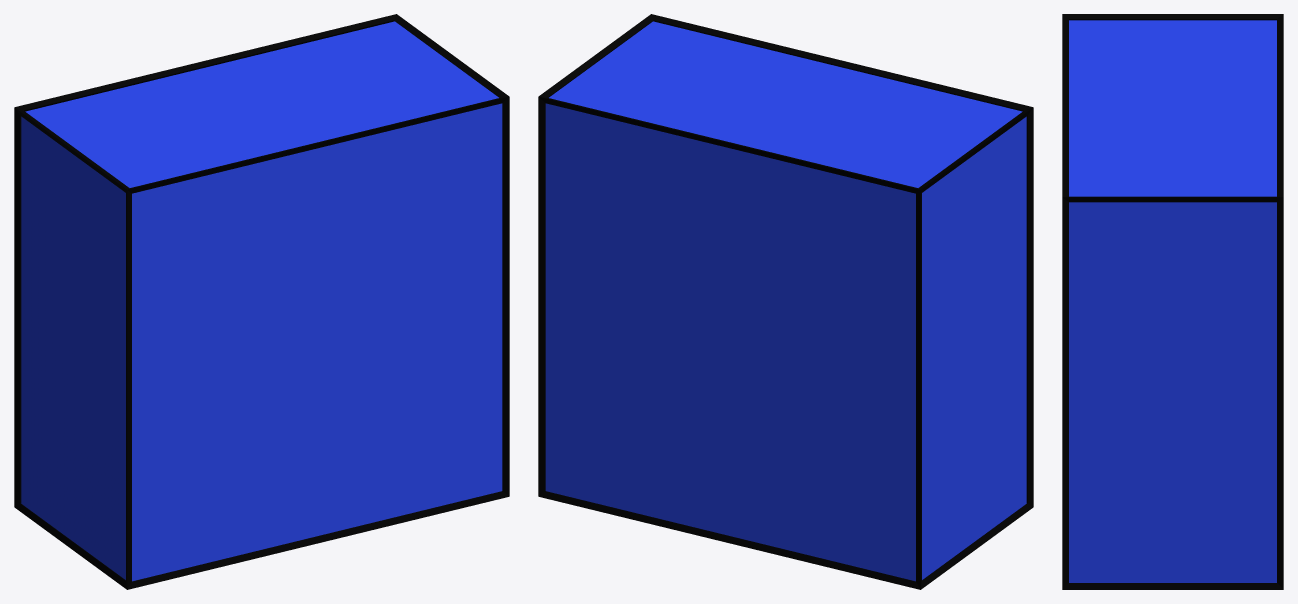
File: cuboid1_blue.obj
3 renders of one model, left to right at view 1: azimuth 30°, elevation 25°; view 2: azimuth 150°, elevation 25°; view 3: azimuth 270°, elevation 25°, orthographic.
Visible parts, largest first — view 1: cuboid1, cuboid.001; view 2: cuboid1, cuboid.001; view 3: cuboid1, cuboid.001.
Boxes of the visible parts, x1,y1,x2,y2 form: cuboid1: [21, 21, 502, 581]; cuboid.001: [14, 14, 509, 589]; cuboid1: [545, 21, 1026, 581]; cuboid.001: [538, 14, 1033, 589]; cuboid1: [1069, 20, 1276, 582]; cuboid.001: [1062, 14, 1283, 589].
Size of the model in its own units: 0.0512 by 0.0512 by 0.0262.
